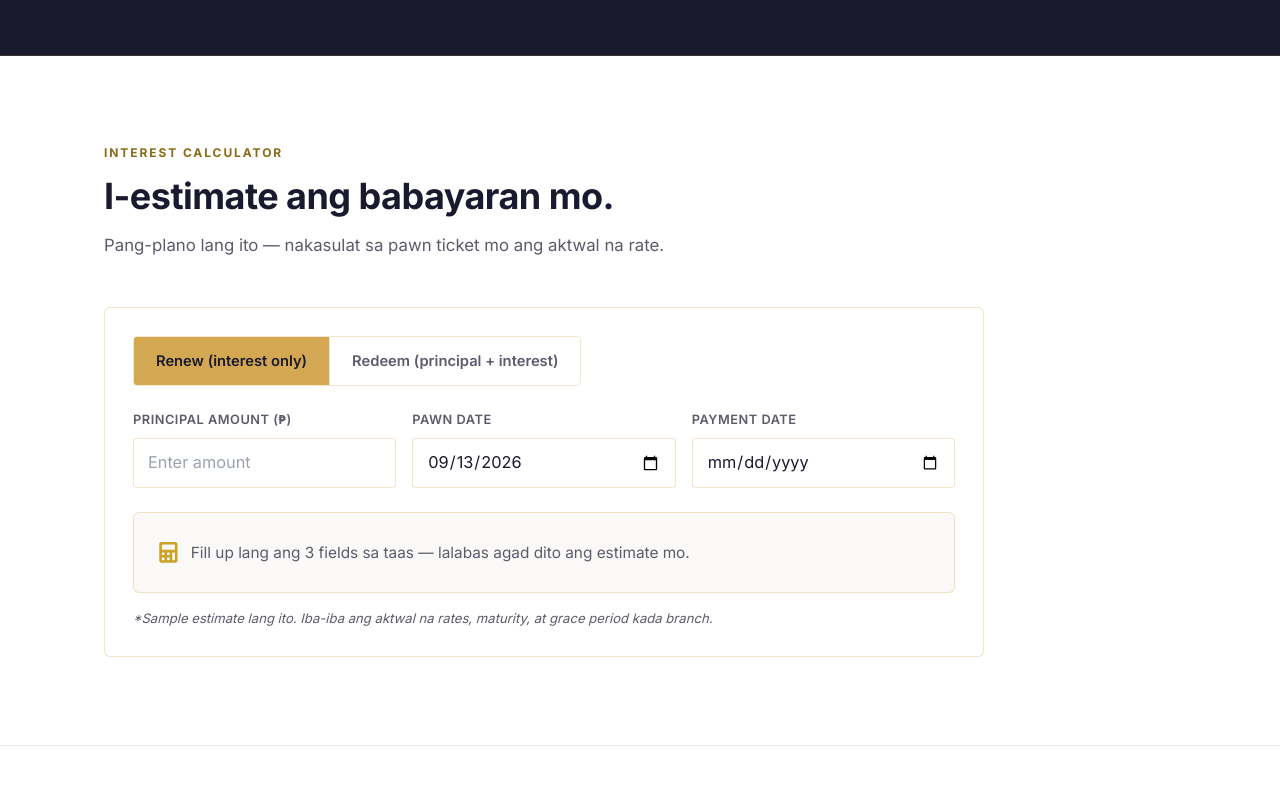
Scenario: ₱5,000 renewed after 10 days → 1.0% tier, ₱50.00 interest
(page scrolled)
Type "5000" into the number field labelled "Principal amount (₱)" at (265, 463), box [133,438,396,488]
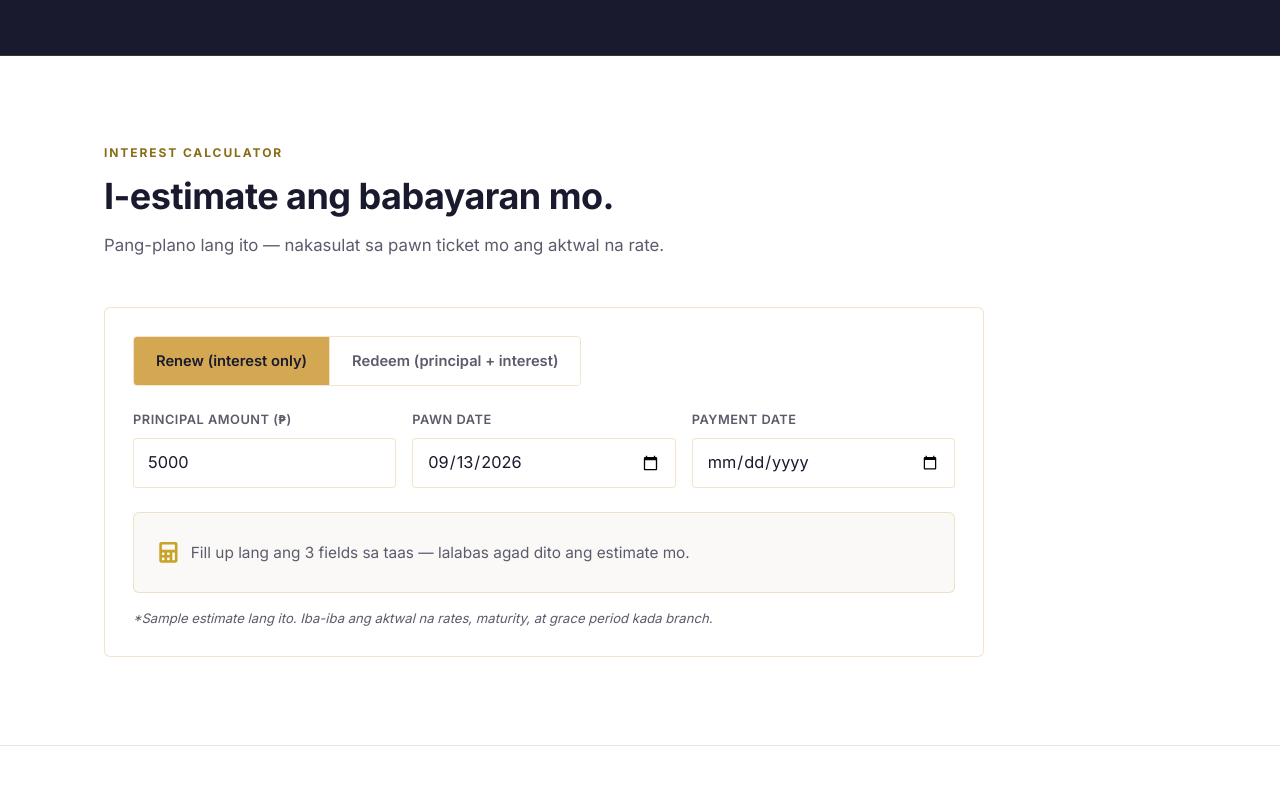
Type "2026-01-01" into the date field labelled "Pawn date" at (544, 463), box [412,438,676,488]
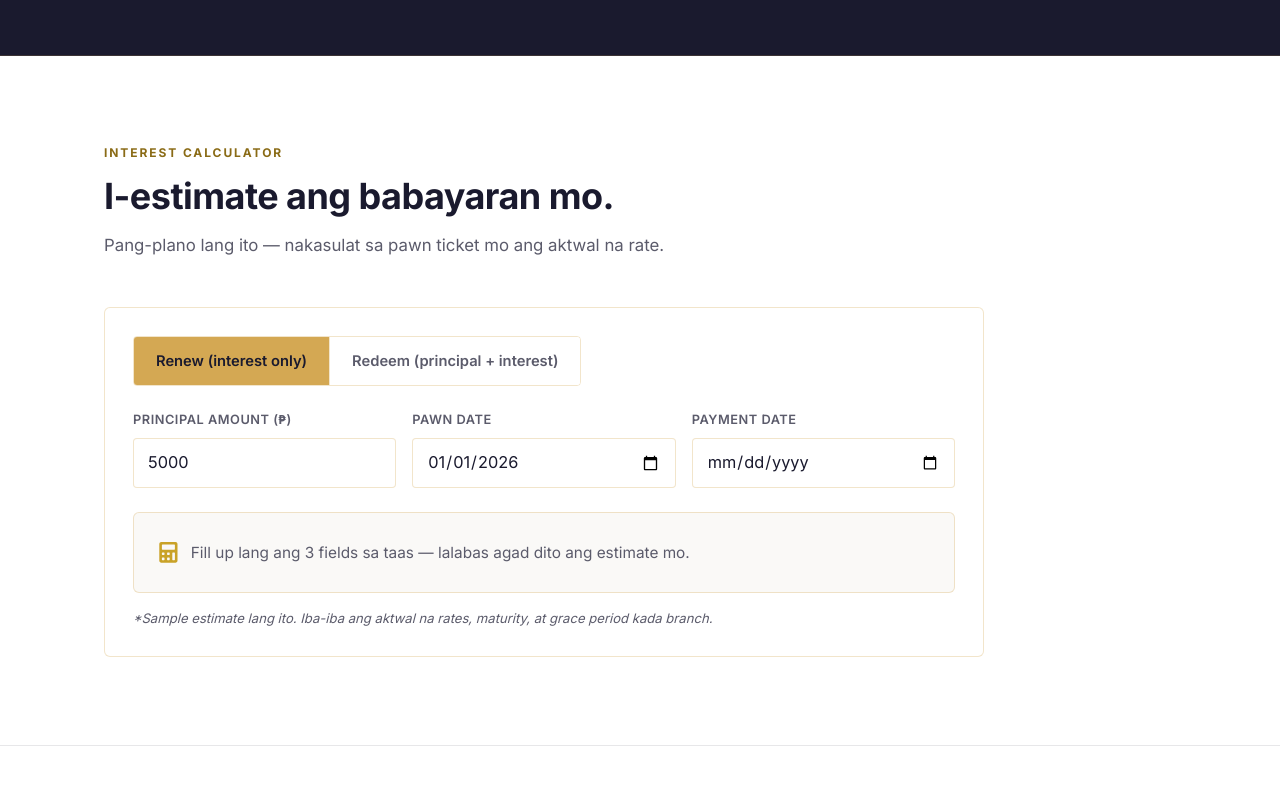
Type "2026-01-11" into the date field labelled "Payment date" at (823, 463), box [692,438,955,488]
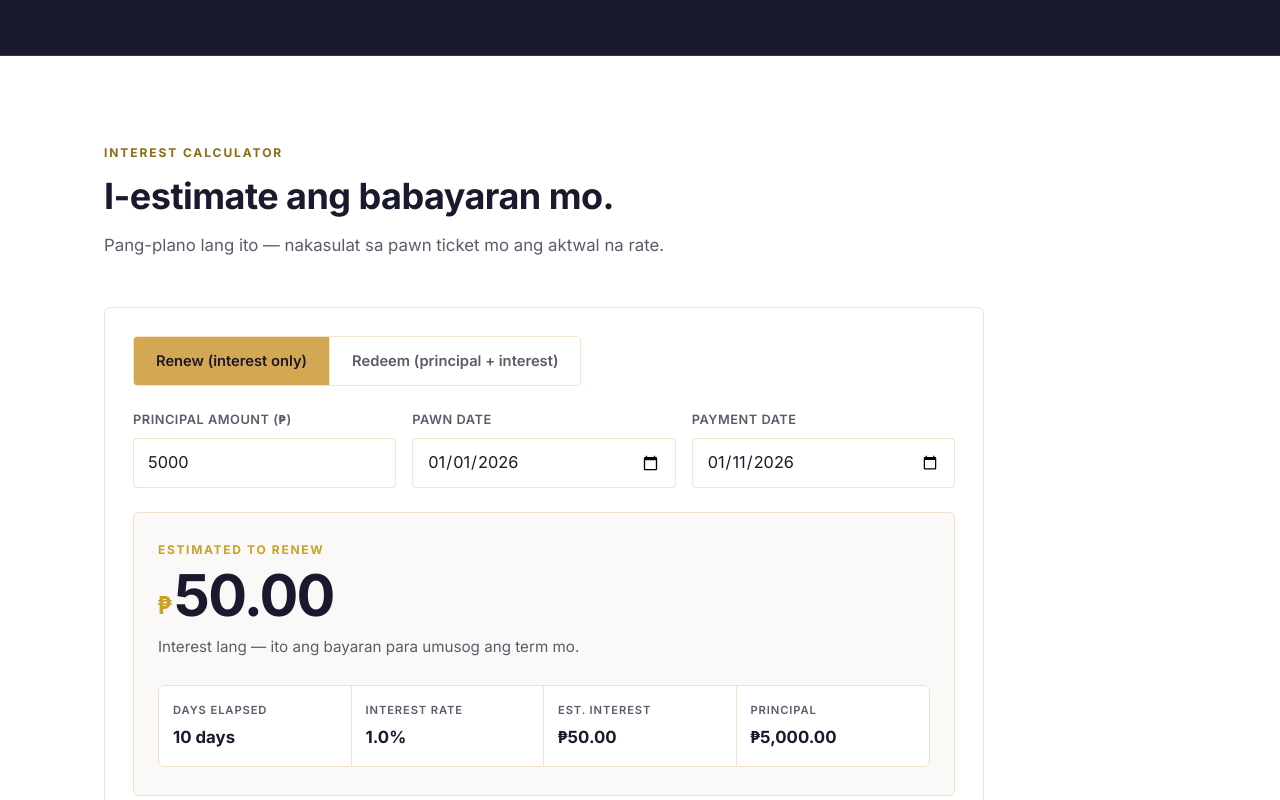
Result: the text "10 days" is shown at [173,727,235,747]
Result: the text "1.0%" is shown at [366,727,406,747]
Result: the text "Estimated to renew" is shown at [158,542,324,557]
